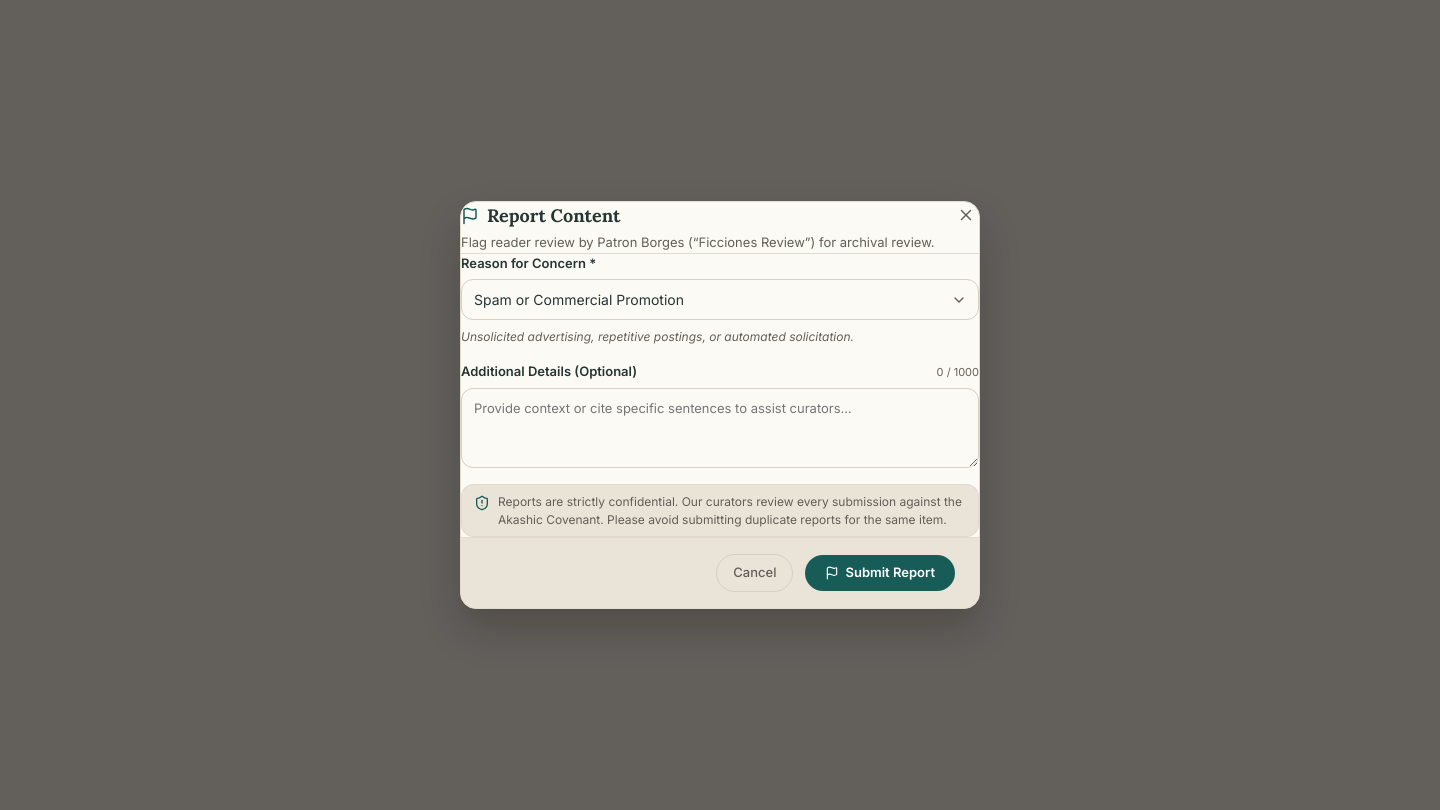
Test: ReportContentModal Component › submits report successfully and renders confirmation state
The image size is (1440, 810).
Select "Unmarked Spoilers" in the dropdown labelled "Reason for Concern *" at (720, 300), box x1=461 y1=279 x2=979 y2=320
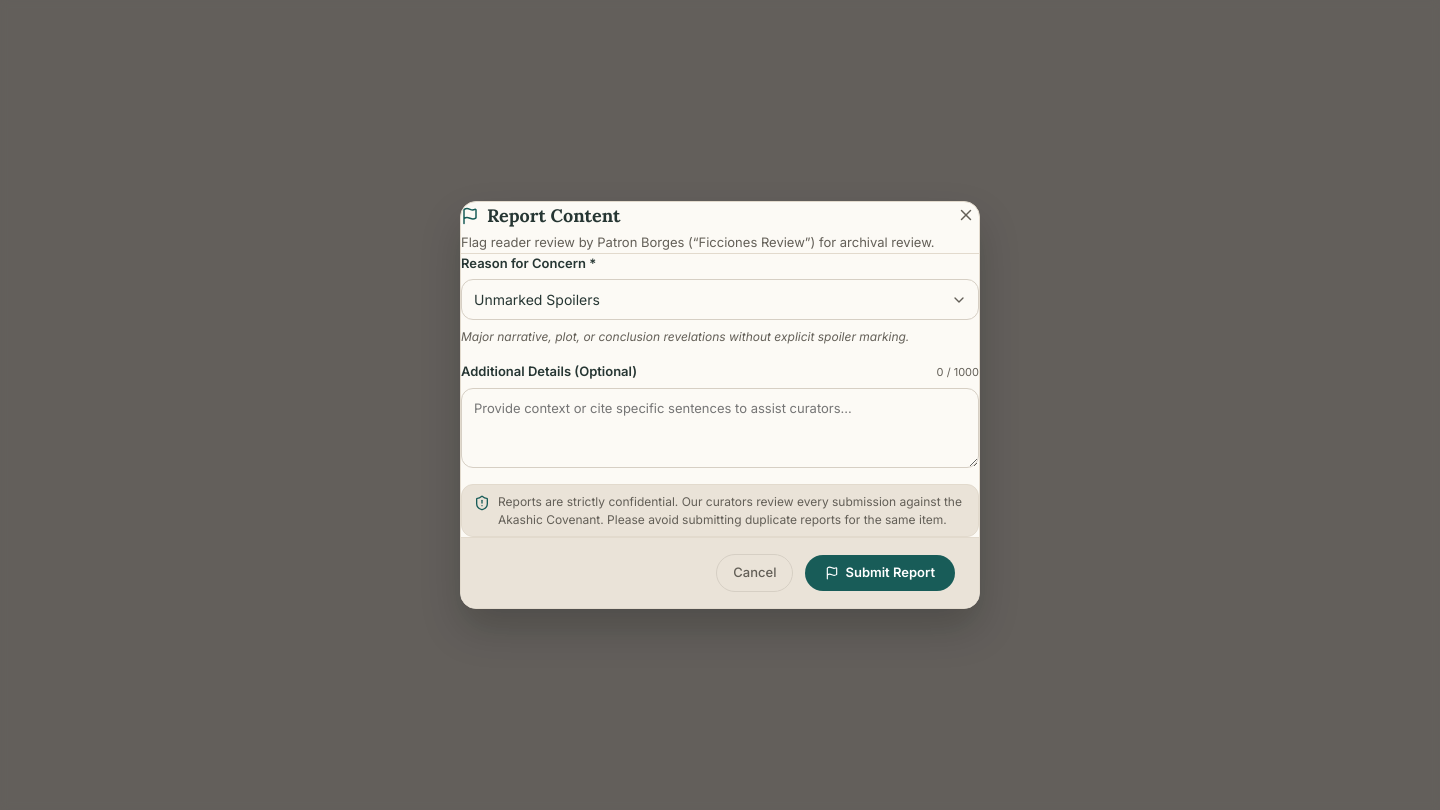
Click the button with test id "submit-report-btn".
click(880, 573)  # box x1=806 y1=555 x2=955 y2=591
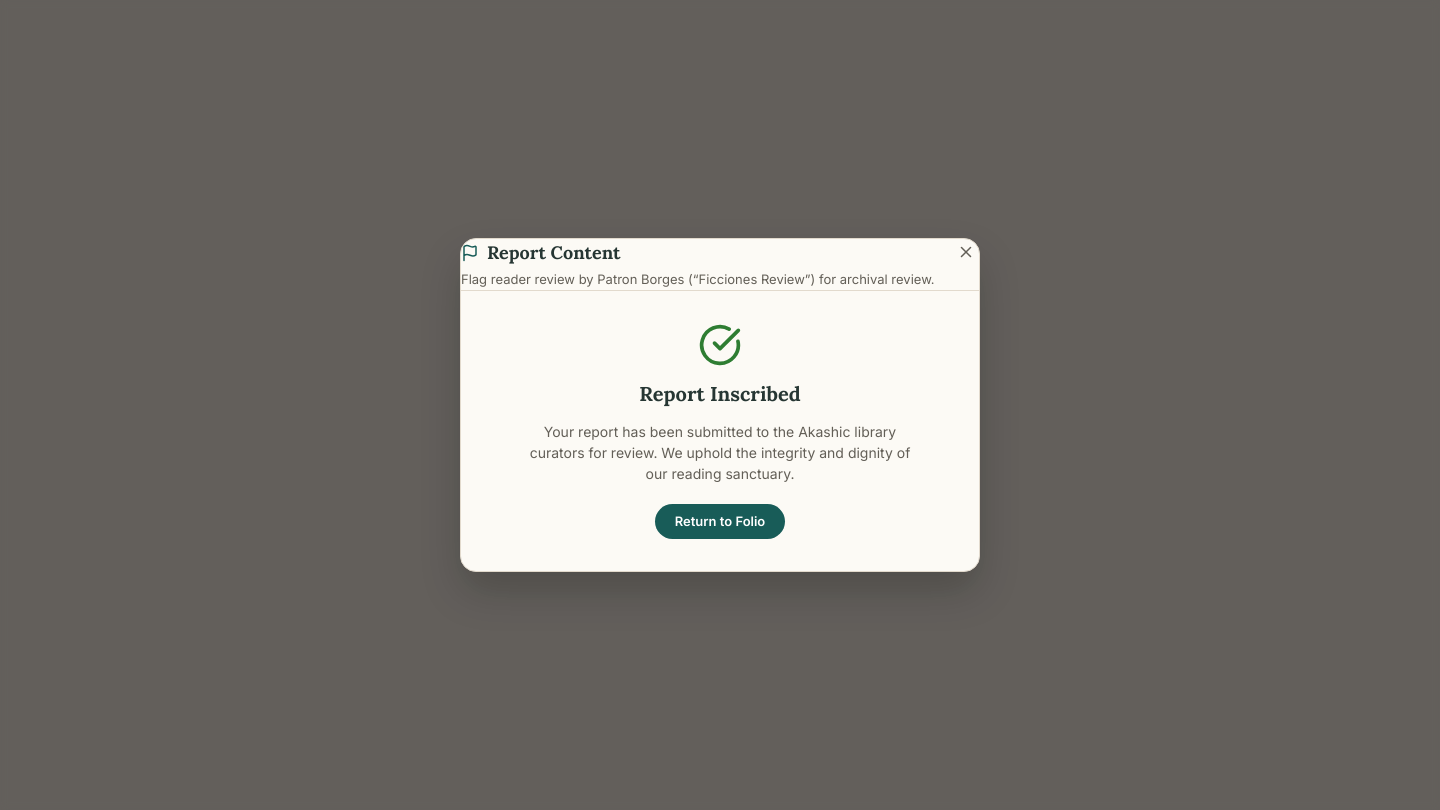
Expected: the element with test id "report-success-view" is shown, x1=530 y1=322 x2=910 y2=539
Expected: the heading "Report Inscribed" is shown, x1=639 y1=378 x2=801 y2=408
